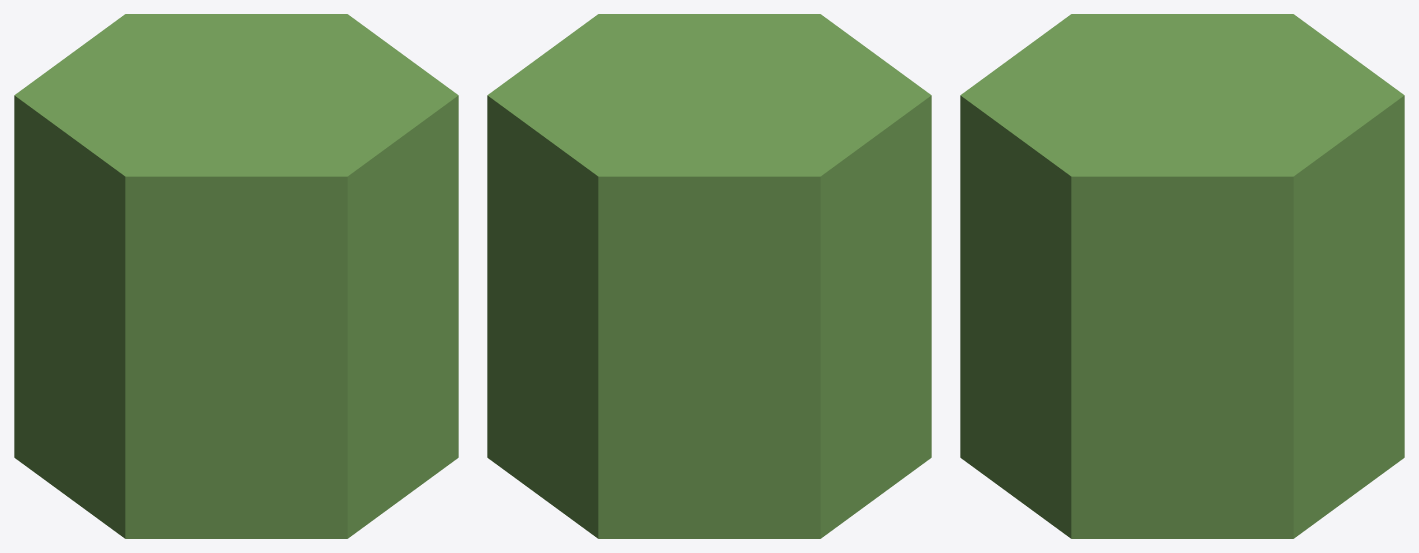
The model's file is asset.glb.
3 views of the same model, side by side, from view 1: azimuth 30°, elevation 25°; view 2: azimuth 150°, elevation 25°; view 3: azimuth 270°, elevation 25° (orthographic).
Visible parts, largest first — view 1: 六角柱; view 2: 六角柱; view 3: 六角柱.
Part boxes in pixels (<box>): 六角柱: <box>14,14,458,538</box>; 六角柱: <box>487,14,931,538</box>; 六角柱: <box>960,14,1404,538</box>.
Size of the model in its own units: 1.73 by 1.8 by 2.
